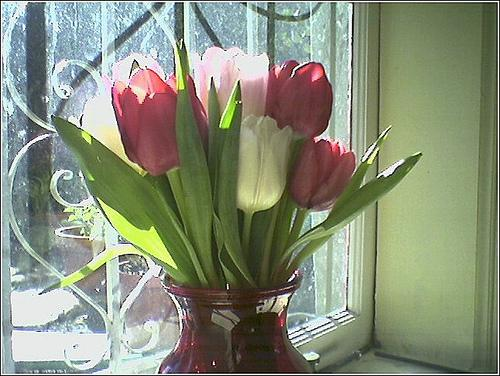tulip: (110, 68, 205, 173), (195, 47, 270, 117), (237, 116, 291, 211), (269, 58, 333, 133), (292, 133, 355, 209)
